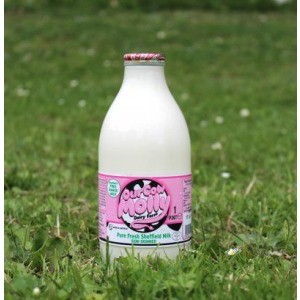milk_brain food: (92, 51, 190, 257)
